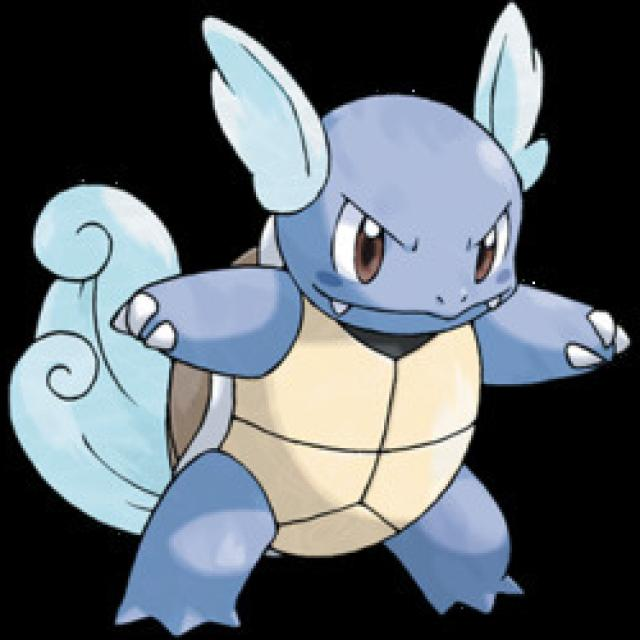Wartortle: (62, 0, 587, 640)
